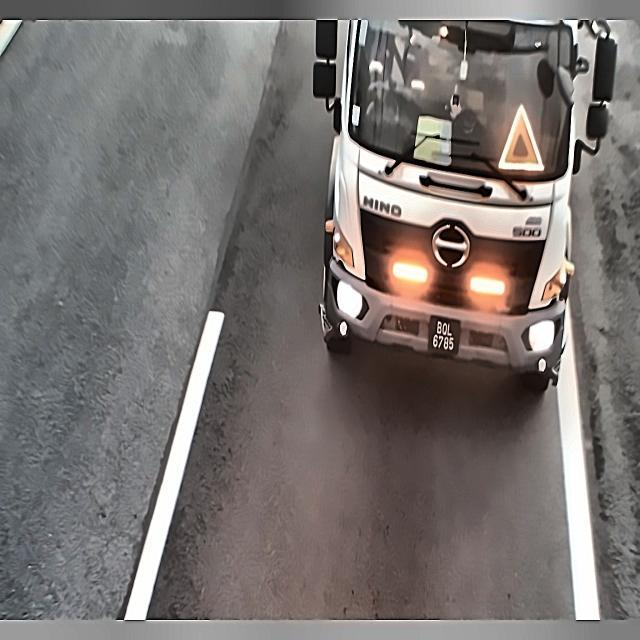car: (422, 310, 465, 368)
